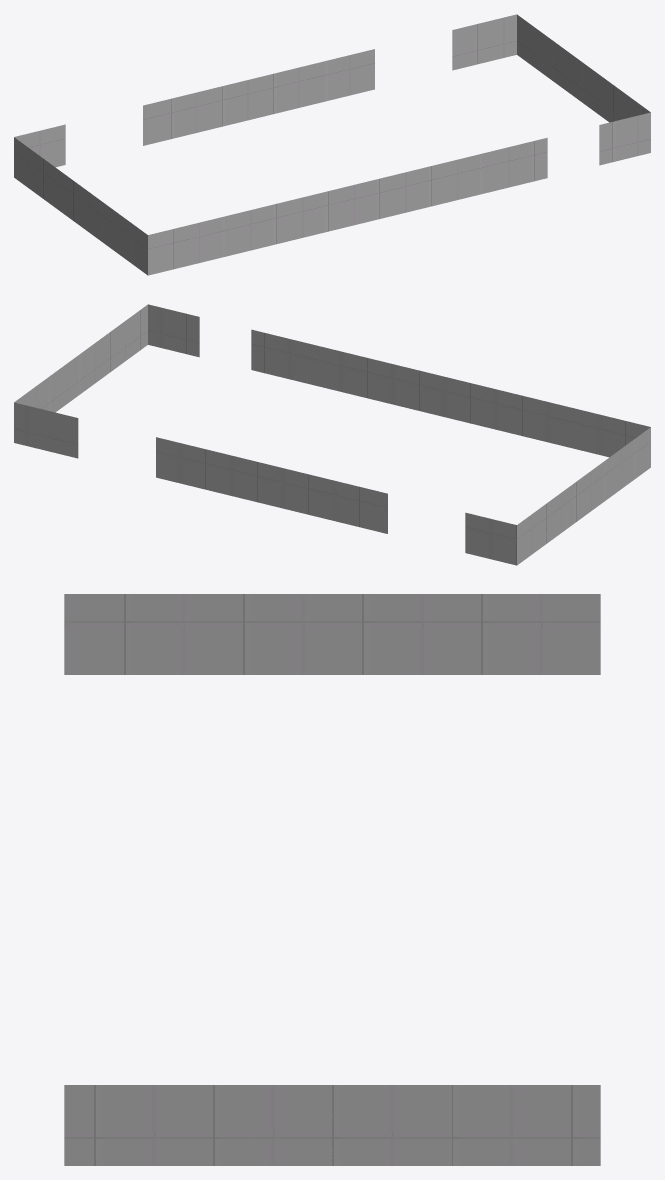
Rendered from Block50.fbx.
The picture shows the model from 3 angles, top to bottom: view 1: azimuth 30°, elevation 25°; view 2: azimuth 150°, elevation 25°; view 3: azimuth 270°, elevation 25°; orthographic projection. The views are drawn at different scales.
Visible parts, largest first — view 1: Lab_Wall_ERROR; view 2: Lab_Wall_ERROR; view 3: Lab_Wall_ERROR.
Part boxes in pixels (x1,y1,x2,y2): Lab_Wall_ERROR: (14,14,650,275); Lab_Wall_ERROR: (14,304,650,565); Lab_Wall_ERROR: (64,594,600,1165).
Size of the model in its own units: 39 by 3 by 18.
1 material, 1 textured.
